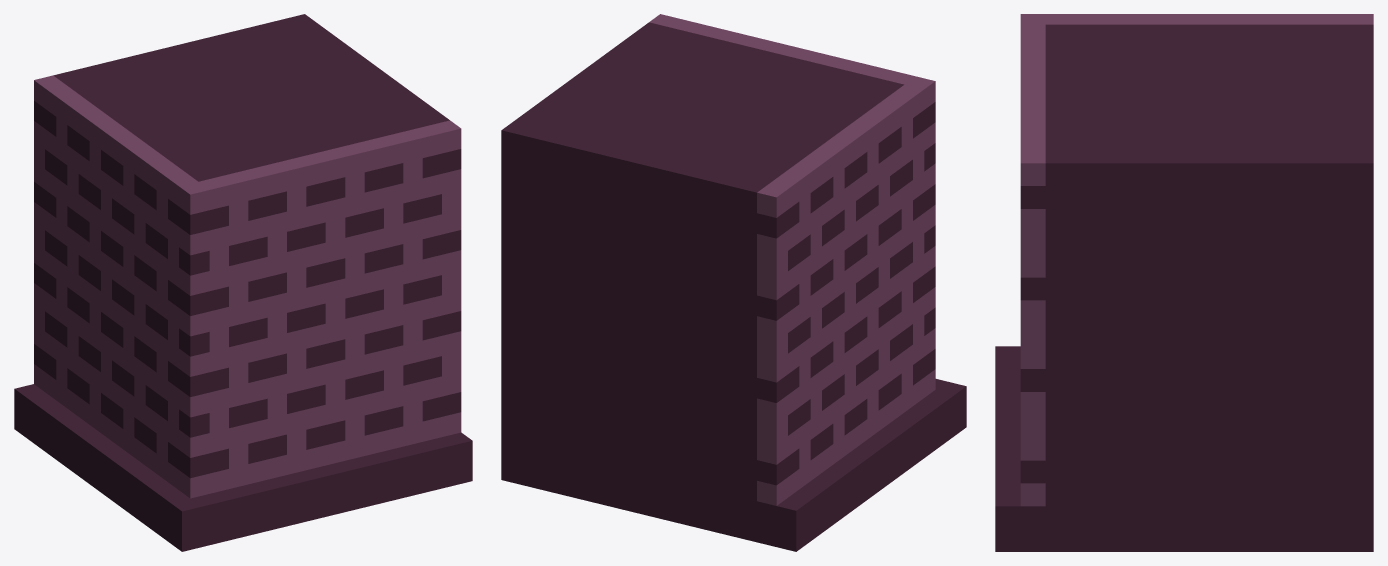
Rendered from dungeon_c_b_outer_wall_corner_b.obj.
The picture shows the model from 3 angles, left to right: view 1: azimuth 30°, elevation 25°; view 2: azimuth 150°, elevation 25°; view 3: azimuth 270°, elevation 25°; orthographic projection. The views are drawn at different scales.
Bounding box in the file's own units: 1.5 × 1.7 × 1.5.
1 material, 1 textured.
